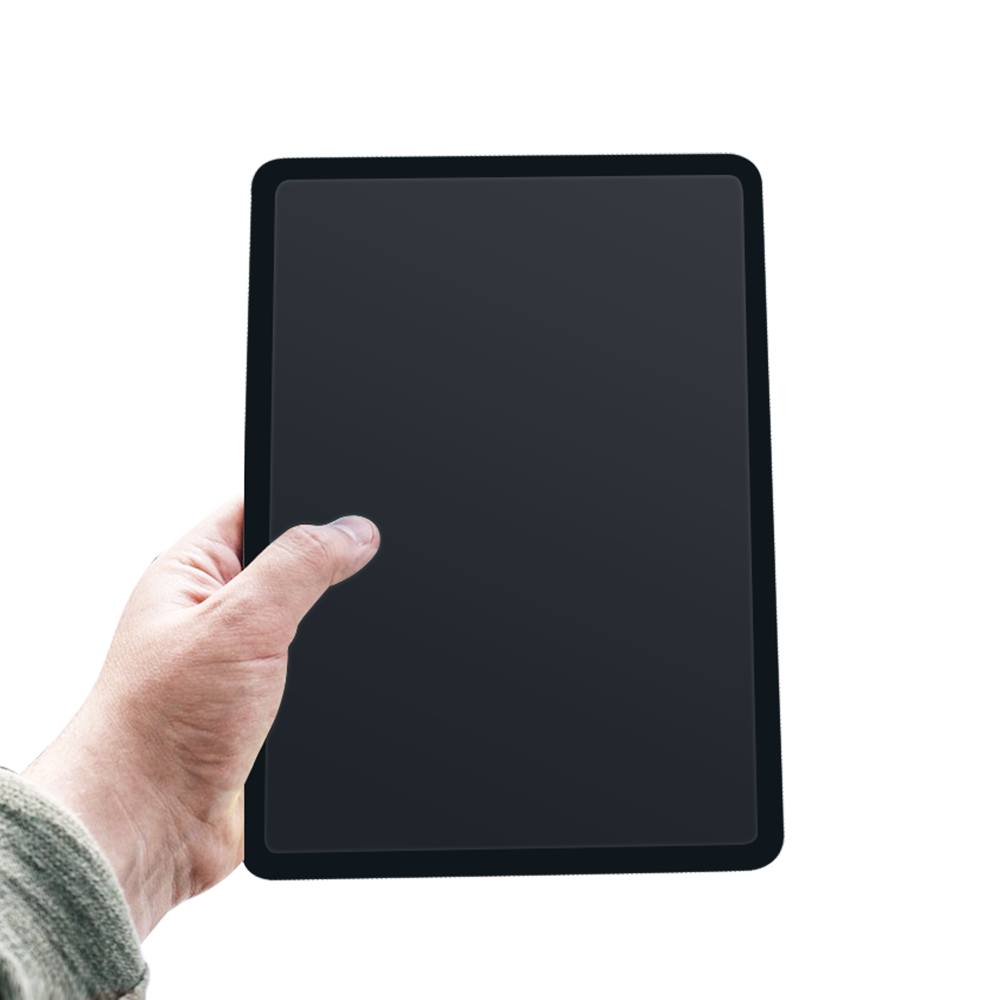pad: (68, 133, 796, 901)
